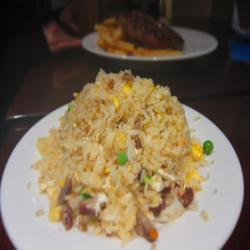rice: (44, 86, 199, 228)
